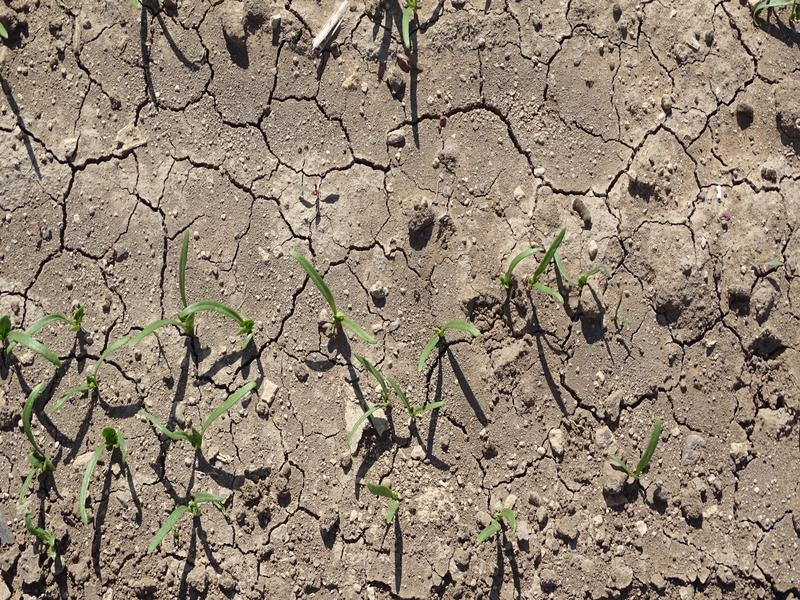Espinaca: (9, 301, 124, 556), (134, 237, 258, 349), (128, 381, 261, 458), (290, 246, 379, 346), (505, 228, 613, 310), (143, 491, 224, 564), (605, 421, 671, 482), (342, 358, 390, 436), (417, 318, 476, 374), (390, 382, 445, 428), (364, 482, 412, 527), (478, 503, 516, 547)
